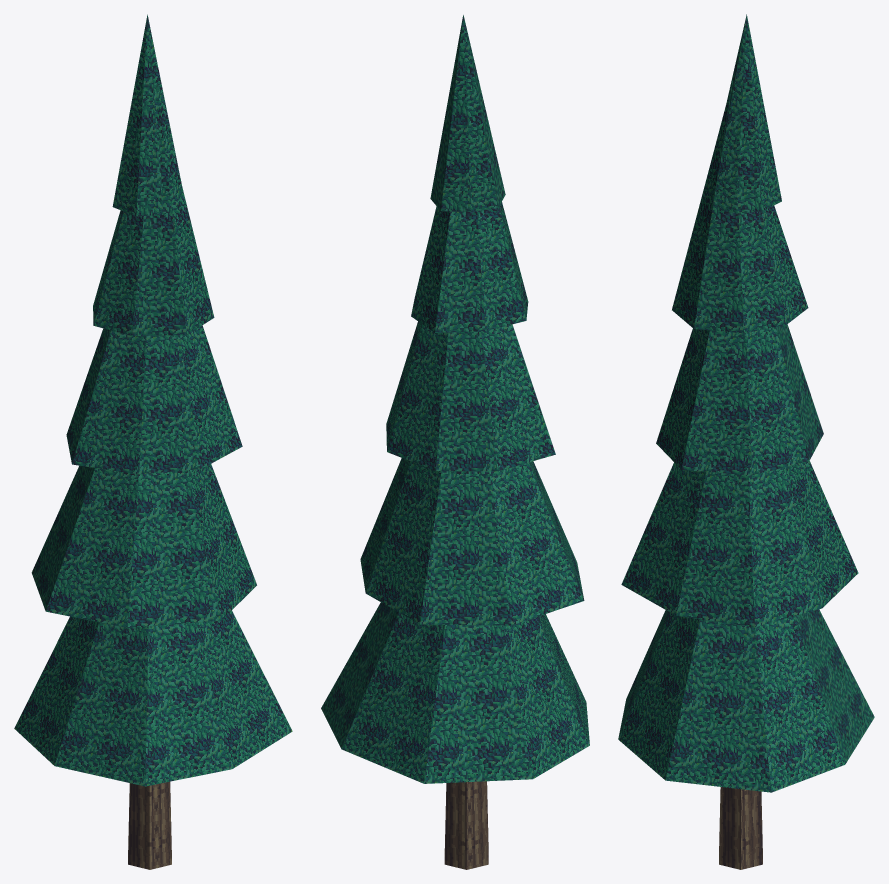
The model's file is pine_c.glb.
3 views of the same model, side by side, from view 1: azimuth 30°, elevation 25°; view 2: azimuth 150°, elevation 25°; view 3: azimuth 270°, elevation 25° (orthographic).
Visible parts, largest first — view 1: pine_c; view 2: pine_c; view 3: pine_c.
Boxes of the visible parts, x1=… form: pine_c: x1=14, y1=14, x2=292, y2=869; pine_c: x1=321, y1=15, x2=589, y2=869; pine_c: x1=618, y1=14, x2=874, y2=869.
Size of the model in its own units: 2.52 by 8.45 by 2.32.
Materials: 2 (2 with a texture image).
